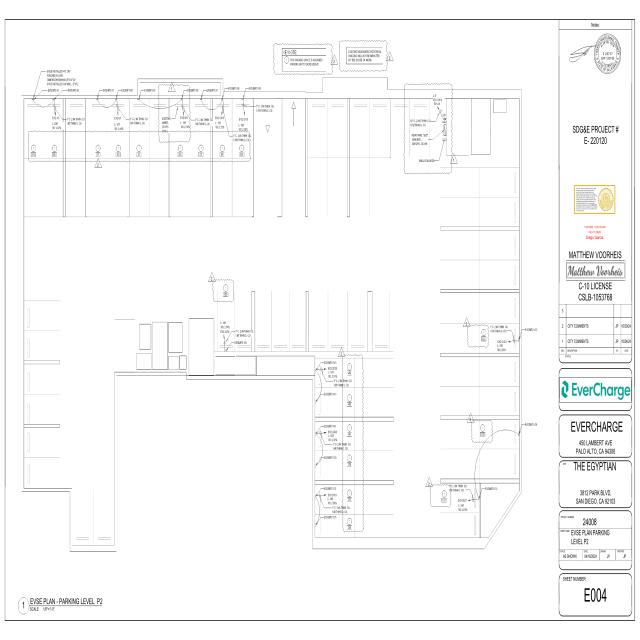evse: (518, 337, 520, 342), (518, 432, 520, 437), (314, 494, 316, 499), (180, 98, 183, 101), (32, 97, 34, 101), (52, 98, 55, 100), (96, 98, 99, 100), (115, 98, 118, 100), (137, 98, 140, 100), (200, 98, 203, 100), (221, 98, 224, 100), (224, 350, 227, 352), (315, 368, 316, 374), (478, 496, 479, 501), (315, 432, 316, 437), (242, 98, 244, 100), (315, 400, 316, 404), (315, 464, 316, 468), (315, 523, 316, 527)
gfi: (443, 117, 446, 121)
panel: (443, 124, 447, 136)
